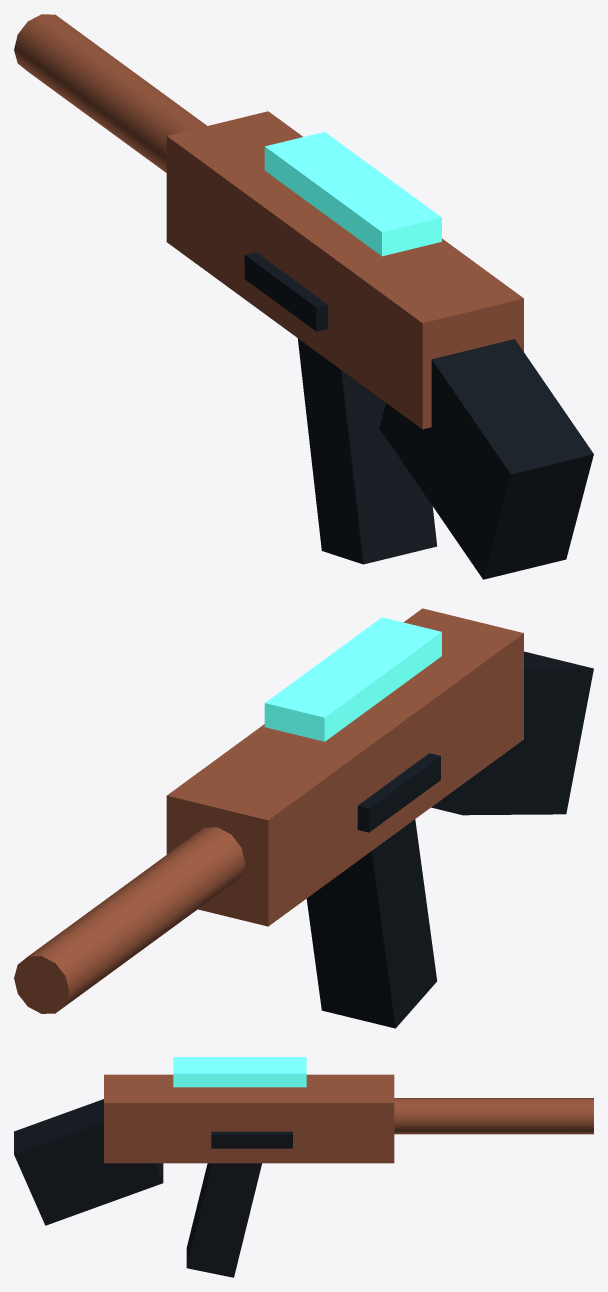
The model's file is ember-6.glb.
3 views of the same model, one above another, from view 1: azimuth 30°, elevation 25°; view 2: azimuth 150°, elevation 25°; view 3: azimuth 270°, elevation 25° (orthographic). The views are drawn at different scales.
Visible parts, largest first — view 1: ember-6; view 2: ember-6; view 3: ember-6.
Boxes of the visible parts, bbox=[...] form: ember-6: bbox=[14, 14, 593, 579]; ember-6: bbox=[14, 608, 593, 1028]; ember-6: bbox=[14, 1057, 593, 1277].
Bounding box in the file's own units: 0.27 × 0.7372 × 1.92.
